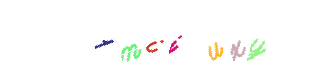1: (64, 0, 144, 80)
I: (122, 0, 202, 80)
J: (153, 0, 233, 80)
M: (121, 0, 201, 80)
U: (162, 0, 242, 80)
X: (172, 0, 252, 80)
Y: (175, 0, 255, 80)
